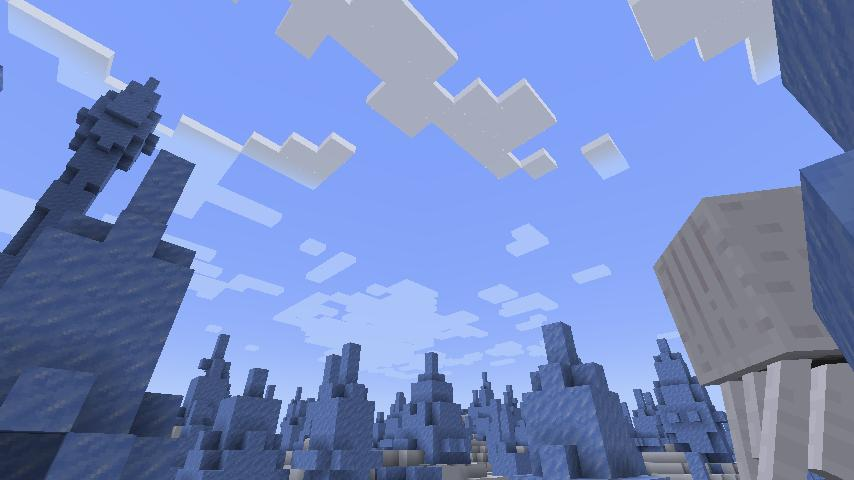ghast: (653, 181, 854, 480)
